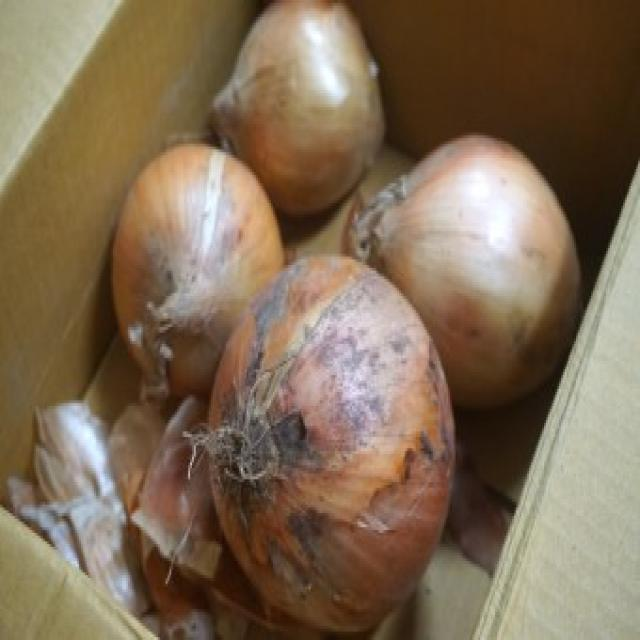Onion: (183, 255, 455, 640), (354, 134, 584, 414), (112, 142, 287, 410), (213, 0, 386, 227)
